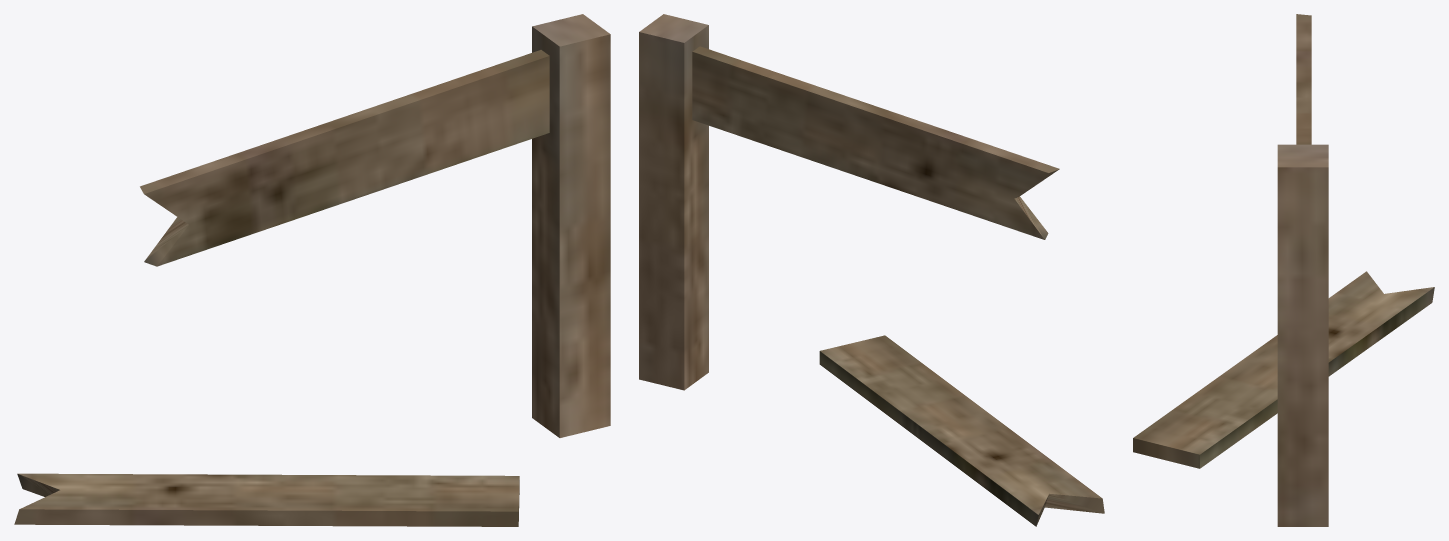
Rendered from Broken Fence2.fbx.
The picture shows the model from 3 angles, left to right: view 1: azimuth 30°, elevation 25°; view 2: azimuth 150°, elevation 25°; view 3: azimuth 270°, elevation 25°; orthographic projection. The views are drawn at different scales.
Visible parts, largest first — view 1: Broken Fence; view 2: Broken Fence; view 3: Broken Fence.
Part boxes in pixels (x1,y1,x2,y2): Broken Fence: [14, 14, 610, 526]; Broken Fence: [639, 14, 1104, 526]; Broken Fence: [1133, 14, 1434, 526].
Bounding box in the file's own units: 234 × 161 × 122.
1 material, 1 textured.
